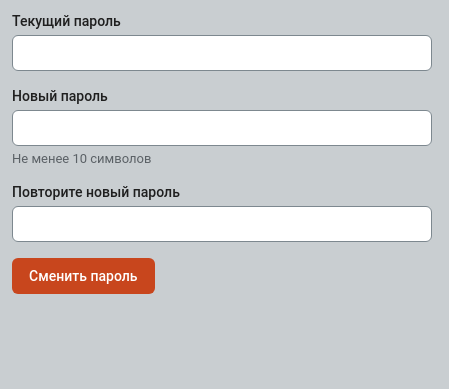
Test: PasswordChangeForm › успех: запрос уходит с двумя паролями, поля очищаются, показано сообщение о завершении других сессий
Expected: the text "Не менее 10 символов" is shown, [12,151,151,166]
Type "student112" into the password field labelled "Текущий пароль" at (222,53), box [12,35,432,71]
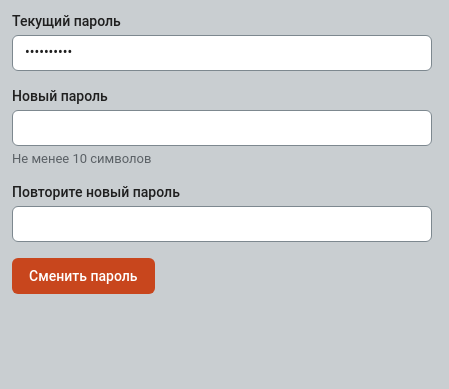
Type "новый-пароль-42" into the password field labelled "Новый пароль" at (222,128), box [12,110,432,146]
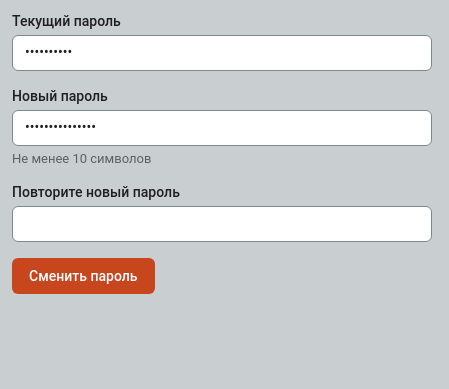
Type "новый-пароль-42" into the password field labelled "Повторите новый пароль" at (222,224), box [12,206,432,242]
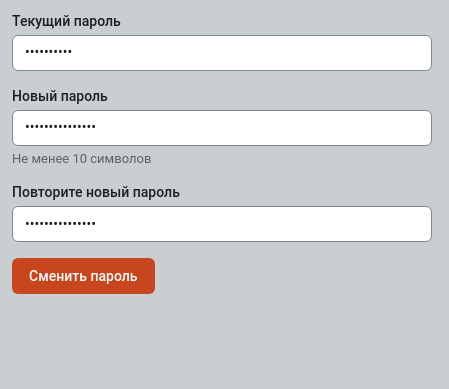
Click the button "Сменить пароль" at (83,276), box [12,258,154,294]
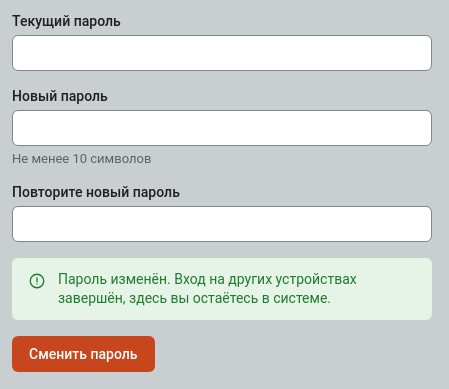
Result: the message shows "Пароль изменён" at [58,271,357,306]
Result: the password field labelled "Текущий пароль" is empty at [12,35,432,71]
